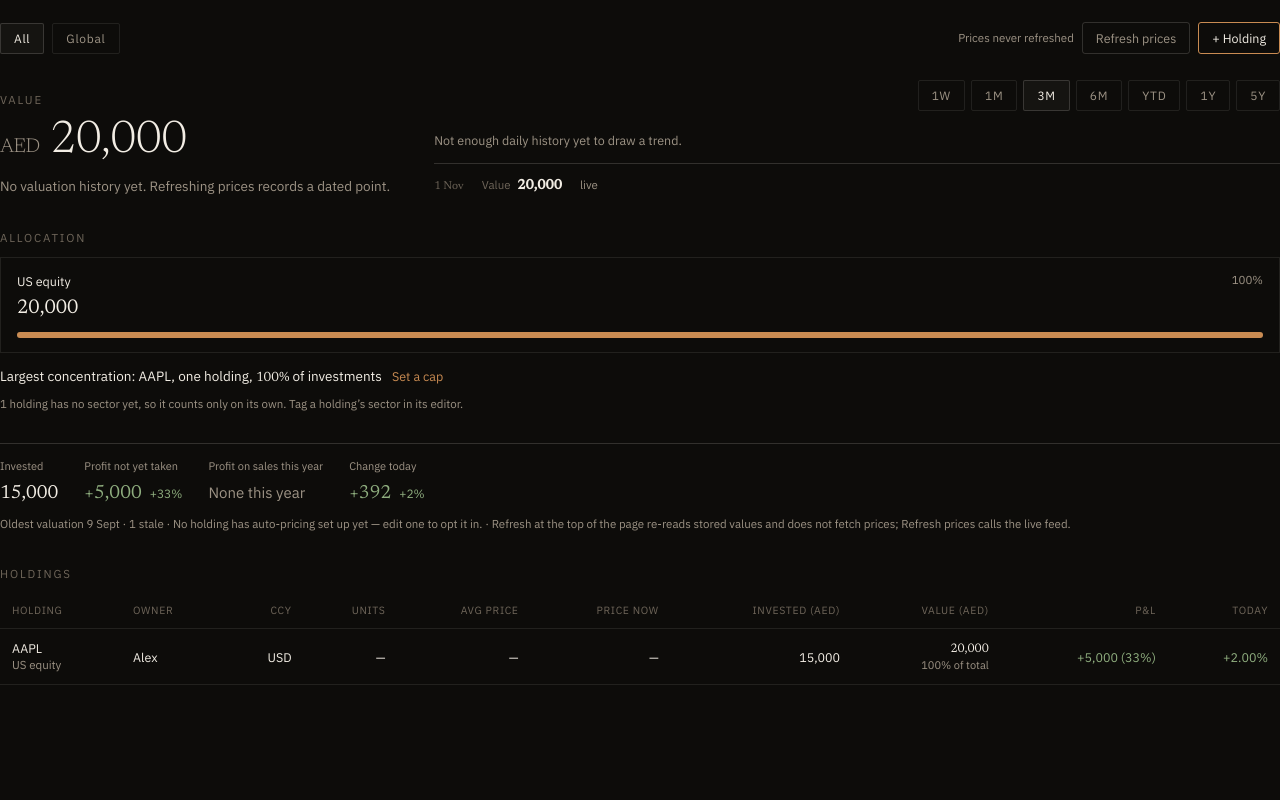
Investments: a refused holding save reads the data afresh › reloads, so the editor opened again shows what changed
Click the row with class "wl-holdrow". click: (640, 657)
box: [0,629,1279,684]
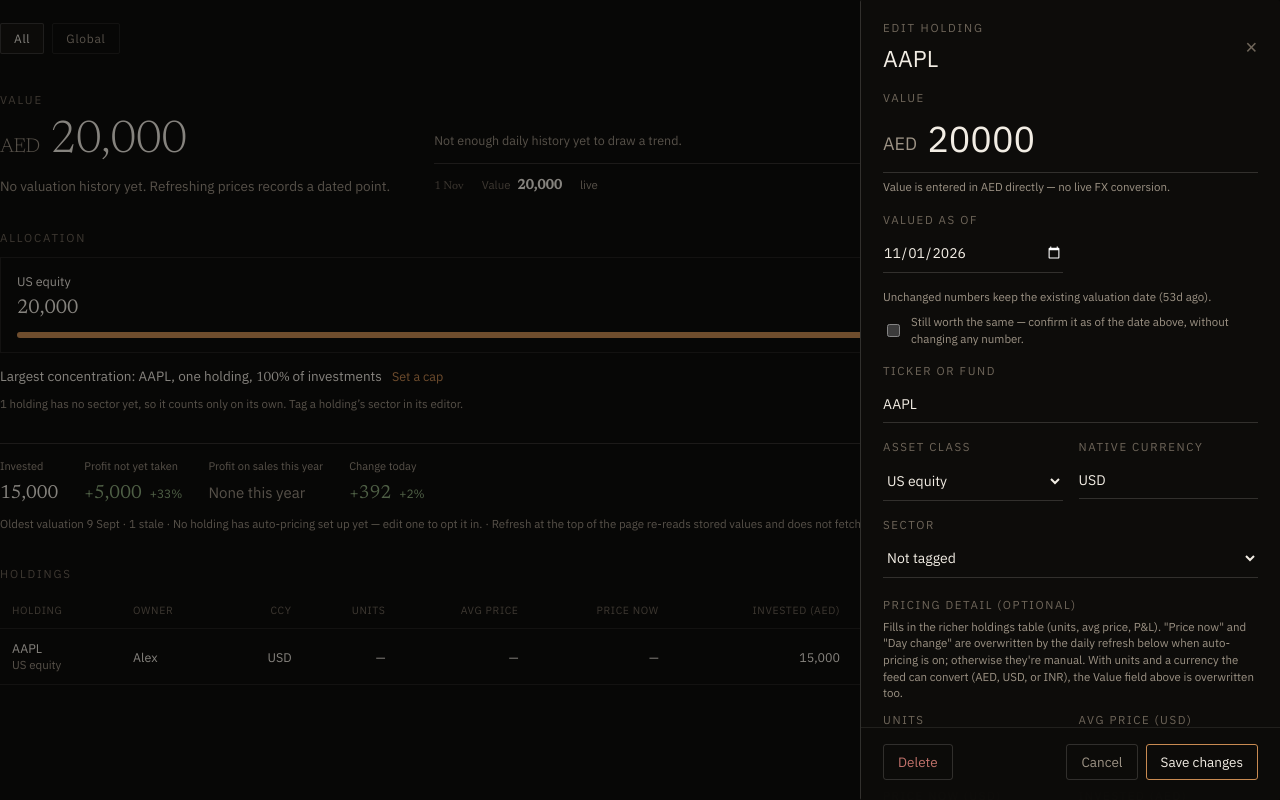
Replace the text in the field with placeholder "e.g. VWRA" below "Ticker or fund" with "AAPL renamed". click: (1070, 404)
box: [883,386,1258,423]
(page scrolled)
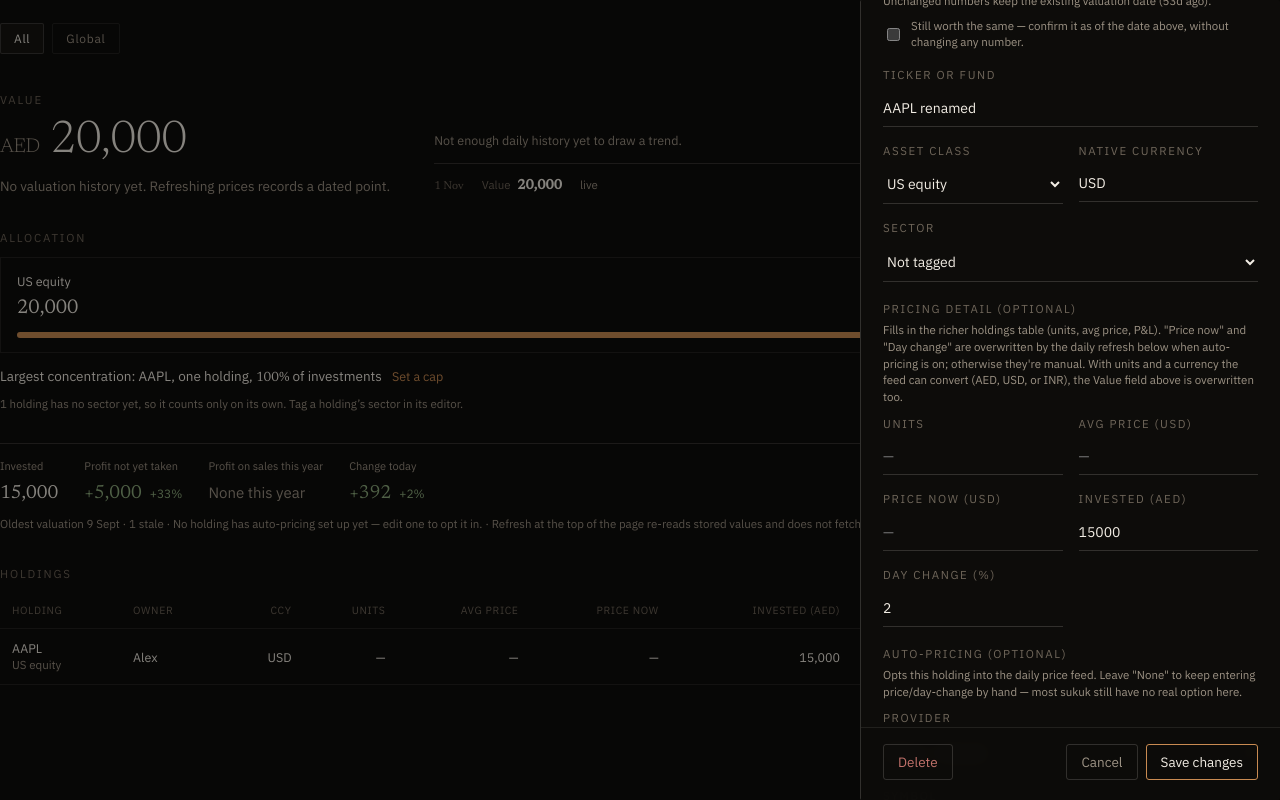
Submit the form, box [861,727,1279,799]
(page scrolled)
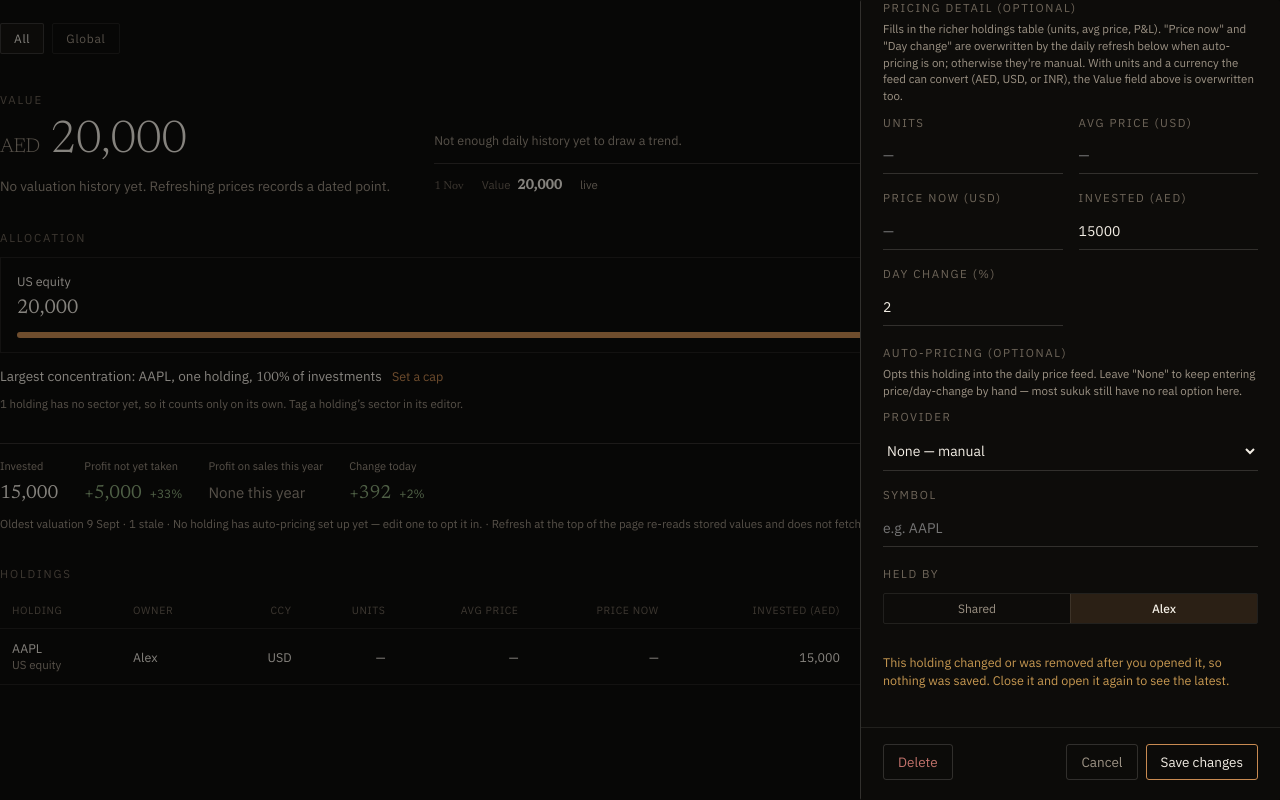
Expected: the text "changed or was removed after you opened it" is shown, [883,654,1229,688]
